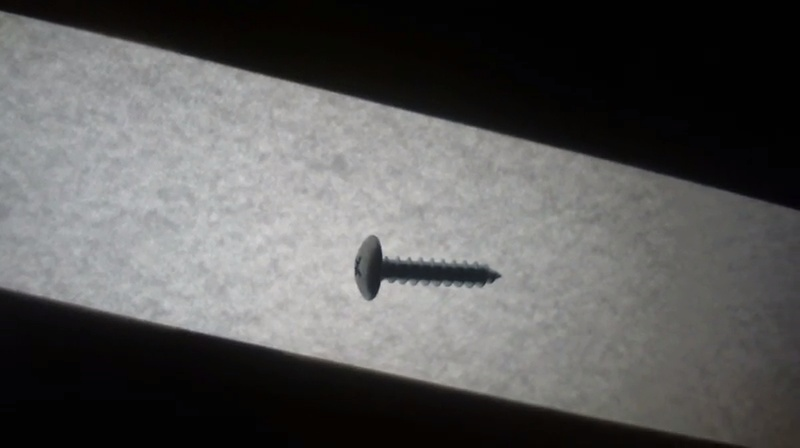S003: (349, 233, 506, 304)
